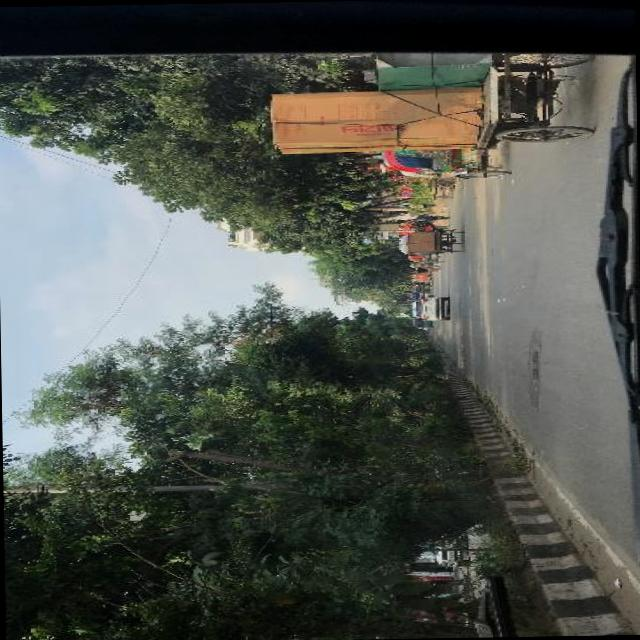car: (412, 296, 448, 318)
motorcycle: (374, 148, 508, 177), (406, 252, 444, 262), (411, 318, 434, 325), (410, 280, 430, 288), (407, 289, 433, 295)
